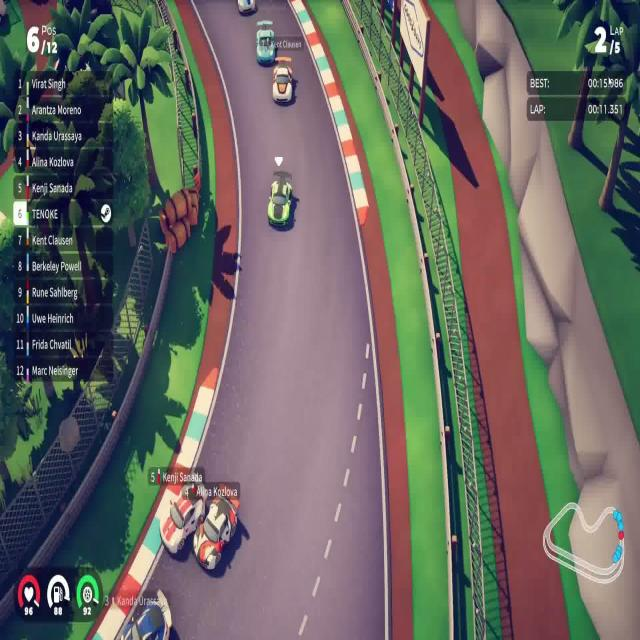car: (192, 494, 238, 571), (159, 478, 205, 554), (267, 172, 293, 228), (272, 56, 293, 105)
